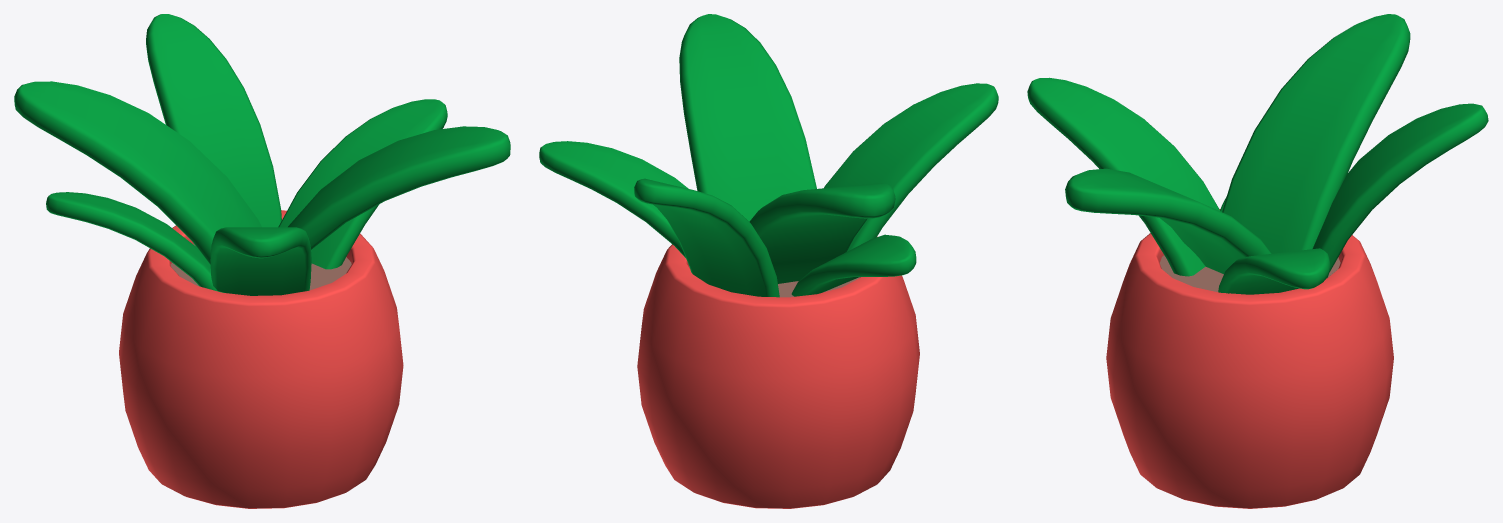
Rendered from City_12_Plant_1.glb.
The picture shows the model from 3 angles, left to right: view 1: azimuth 30°, elevation 25°; view 2: azimuth 150°, elevation 25°; view 3: azimuth 270°, elevation 25°; orthographic projection.
Visible parts, largest first — view 1: City_12_Plant_1; view 2: City_12_Plant_1; view 3: City_12_Plant_1.
Boxes of the visible parts, x1,y1,x2,y2 form: City_12_Plant_1: (14,14,510,508); City_12_Plant_1: (539,14,998,508); City_12_Plant_1: (1027,14,1488,508).
Bounding box in the file's own units: 0.9991 × 0.8949 × 1.02.
1 material, 1 textured.
